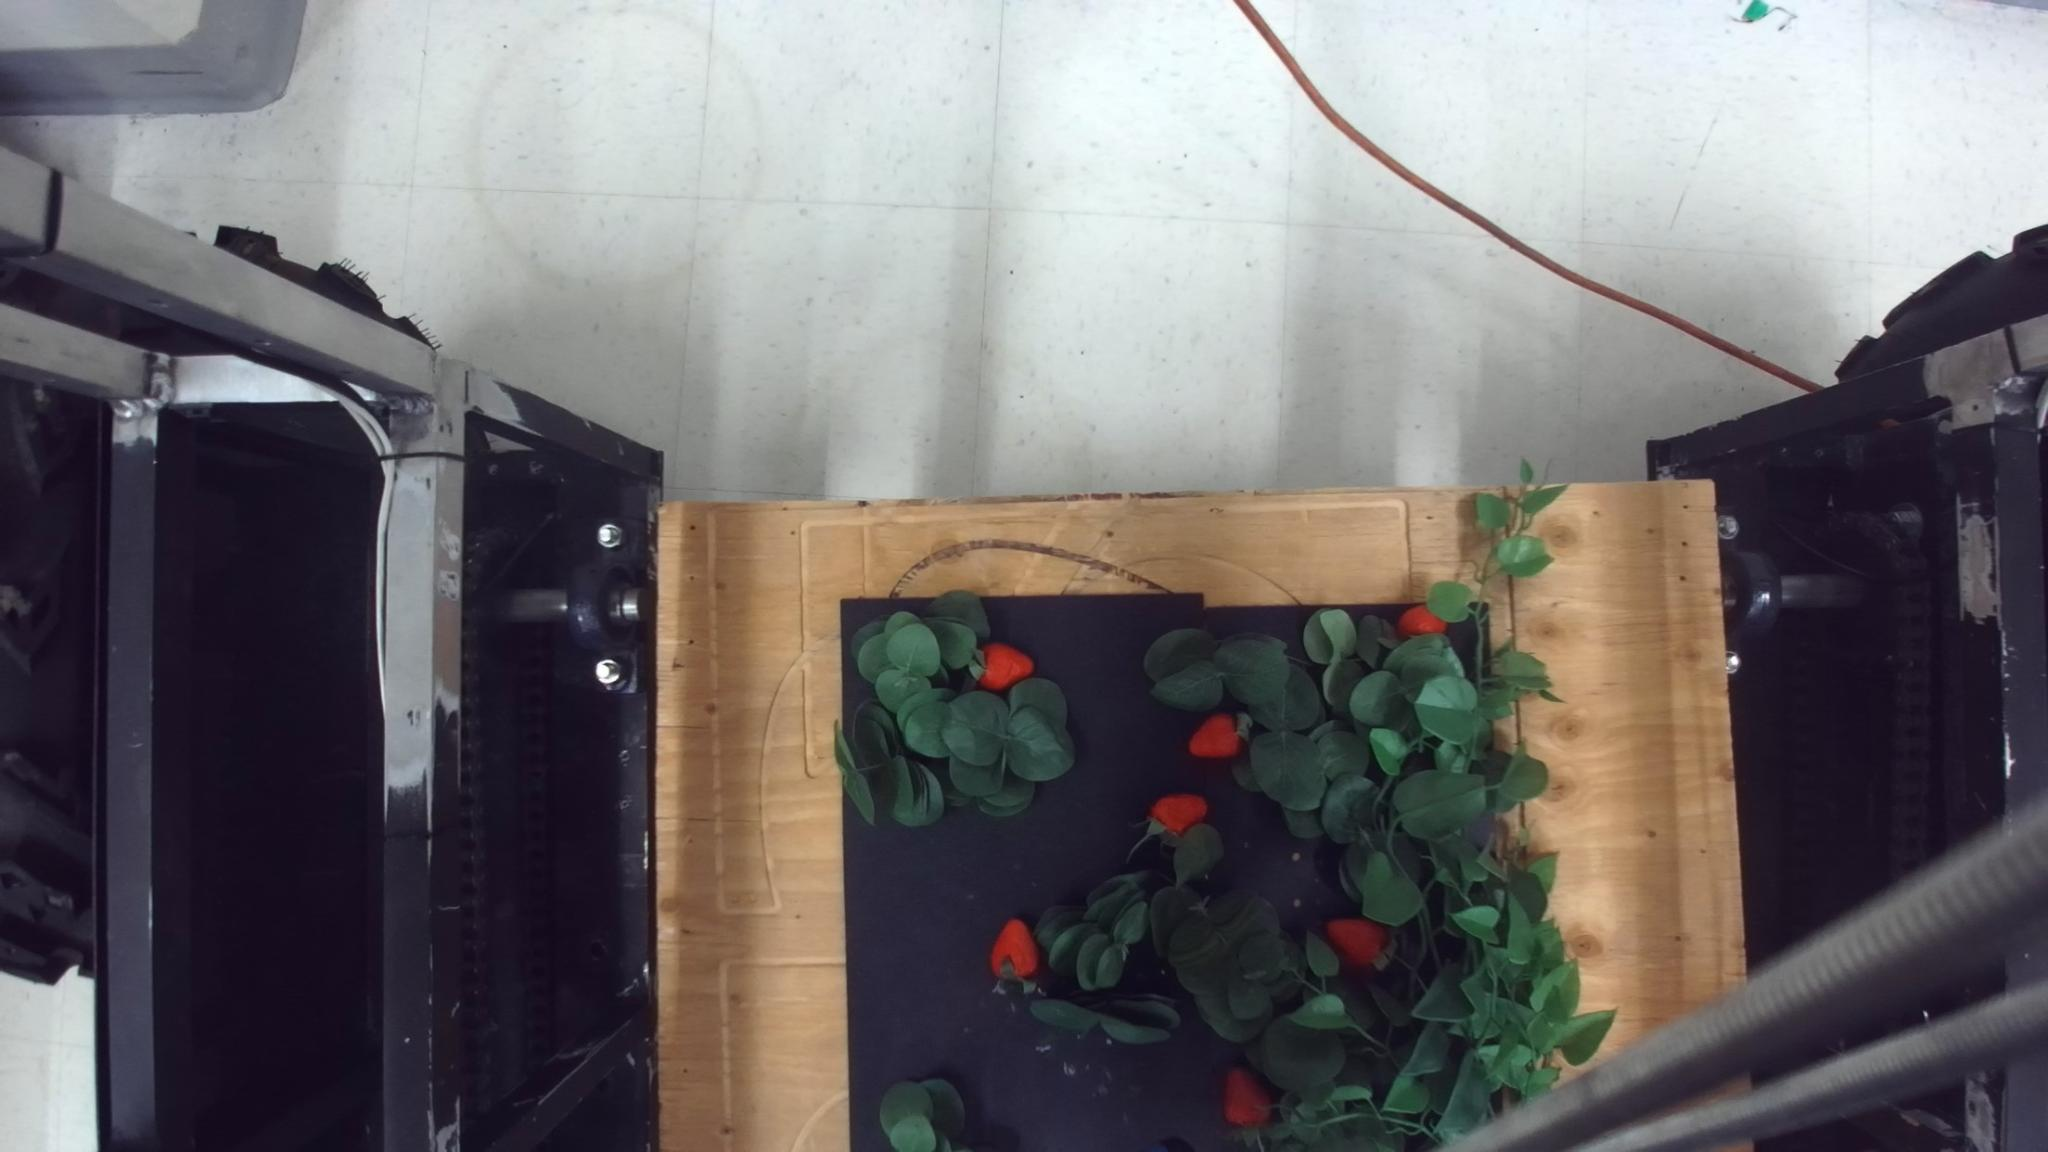strawberry: (1324, 916, 1393, 971), (989, 917, 1041, 980), (1222, 1066, 1274, 1128), (972, 641, 1034, 692), (1187, 712, 1249, 760), (1148, 792, 1208, 837), (1397, 605, 1447, 637)
